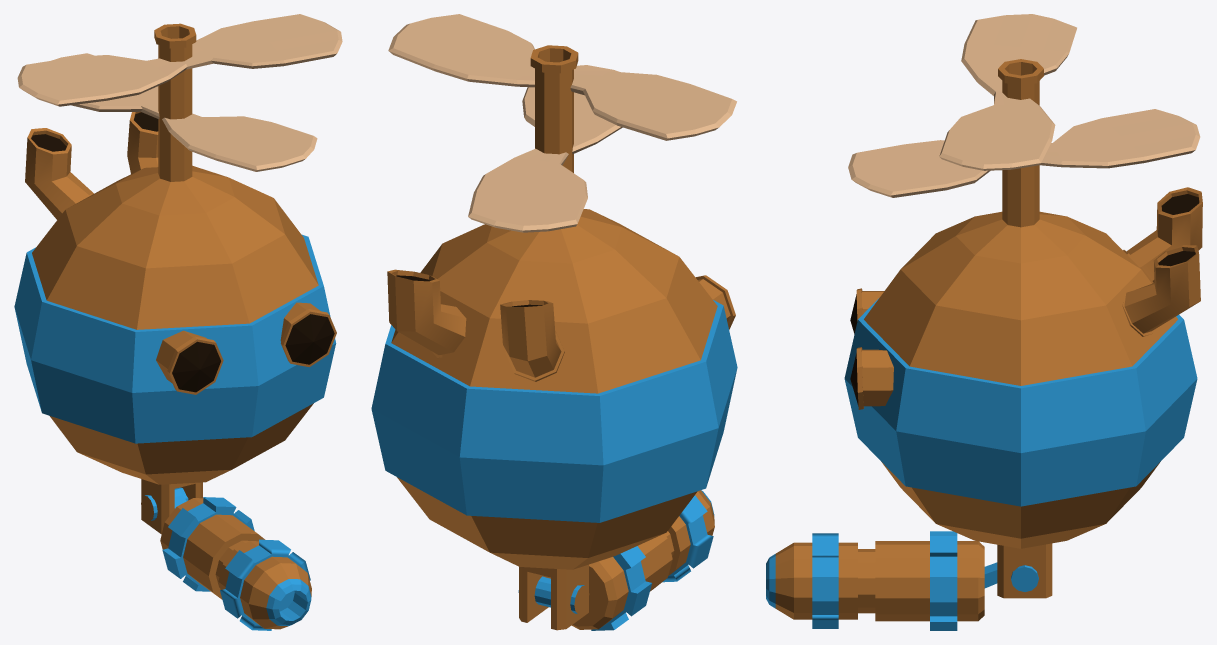
Rendered from GunBot.fbx.
3 renders of one model, left to right at view 1: azimuth 30°, elevation 25°; view 2: azimuth 150°, elevation 25°; view 3: azimuth 270°, elevation 25°, orthographic. The views are drawn at different scales.
Parts seen in each view (by area): view 1: GunBot; view 2: GunBot; view 3: GunBot.
Part boxes in pixels (x1,y1,x2,y2): GunBot: [14, 14, 342, 630]; GunBot: [371, 14, 737, 630]; GunBot: [766, 14, 1202, 630].
Size of the model in its own units: 75.96 by 128 by 90.76.
